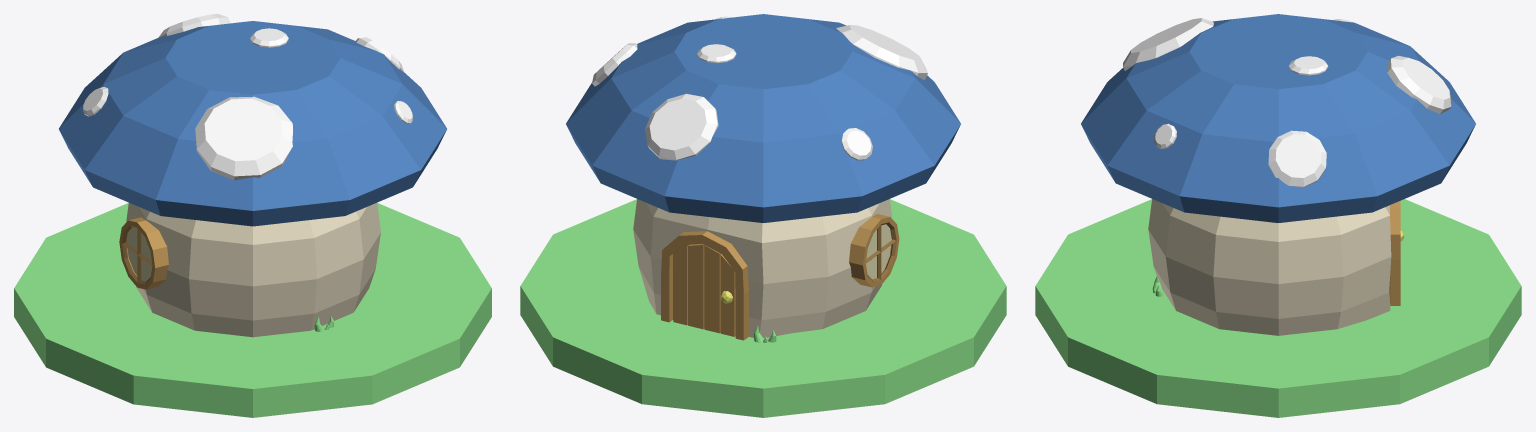
The model's file is mushroomhousebluefixed.fbx.
3 renders of one model, left to right at view 1: azimuth 30°, elevation 25°; view 2: azimuth 150°, elevation 25°; view 3: azimuth 270°, elevation 25°, orthographic.
Parts seen in each view (by area): view 1: house.001, floor.001, dots.001, window.001, windowframe.001; view 2: house.001, floor.001, dots.001, door2.001, door.001, window.001, windowframe.001; view 3: house.001, floor.001, dots.001, door.001.
Boxes of the visible parts, x1=… form: house.001: x1=59, y1=21, x2=446, y2=337; floor.001: x1=14, y1=203, x2=491, y2=417; dots.001: x1=83, y1=14, x2=412, y2=180; window.001: x1=119, y1=217, x2=168, y2=289; windowframe.001: x1=122, y1=225, x2=152, y2=284; house.001: x1=566, y1=14, x2=960, y2=338; floor.001: x1=520, y1=199, x2=1006, y2=417; dots.001: x1=592, y1=16, x2=927, y2=160; door2.001: x1=673, y1=244, x2=735, y2=336; door.001: x1=661, y1=231, x2=748, y2=340; window.001: x1=849, y1=214, x2=899, y2=287; windowframe.001: x1=865, y1=222, x2=896, y2=282; house.001: x1=1081, y1=14, x2=1475, y2=335; floor.001: x1=1035, y1=199, x2=1521, y2=417; dots.001: x1=1123, y1=18, x2=1451, y2=187; door.001: x1=1389, y1=201, x2=1400, y2=305.
Size of the model in its own units: 600 by 365 by 600.
